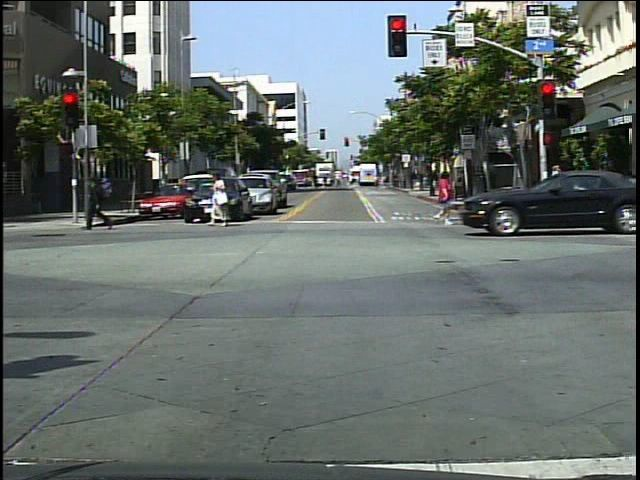person: (208, 167, 240, 231), (84, 169, 113, 234), (431, 168, 460, 219), (546, 160, 569, 211)
